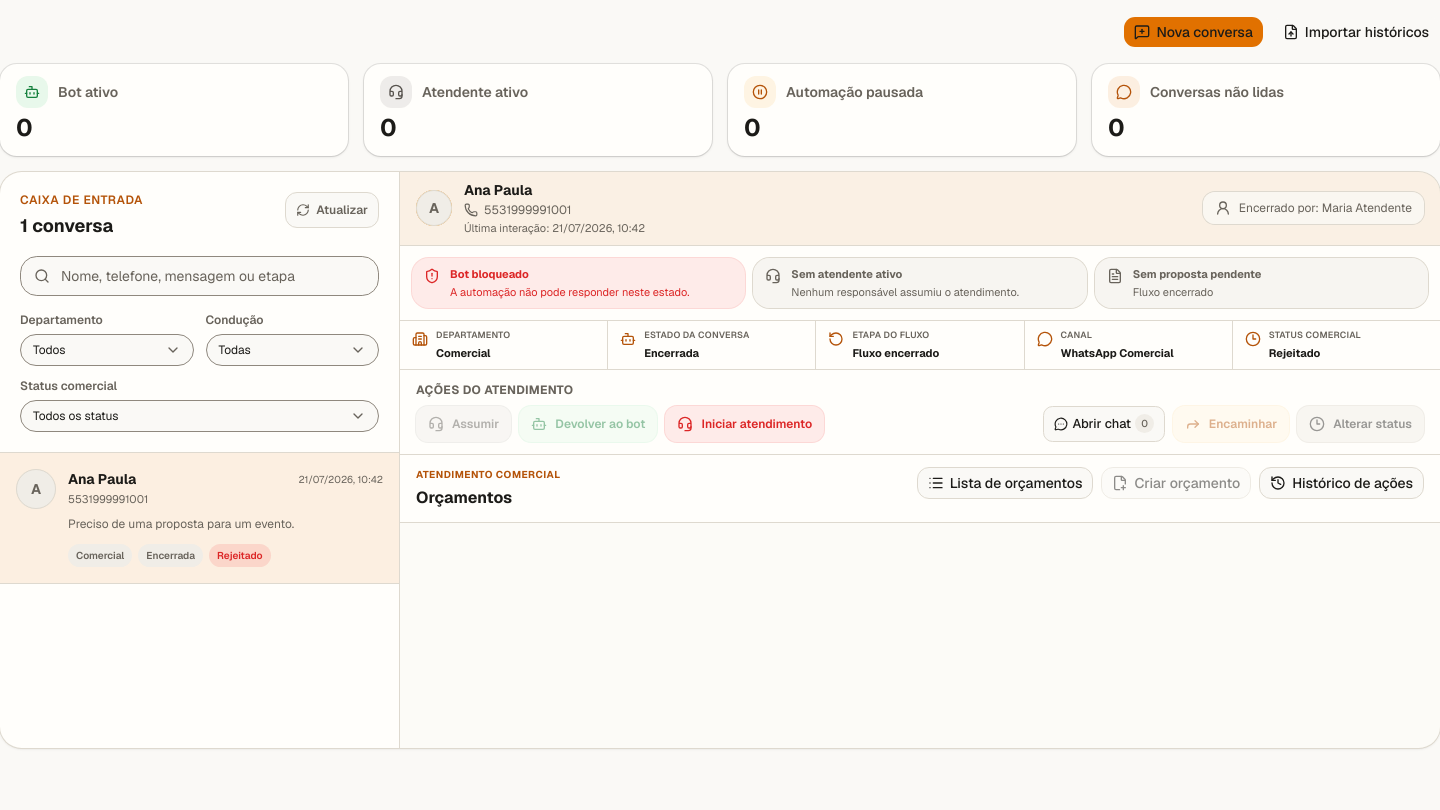
it: ConversationWorkspace › exibe data, responsável e motivo no histórico de encerramentos
expect the text "Encerrado por: Maria Atendente" is shown: met, box [1239,200,1412,216]
Step 1. Click the button "Histórico de ações" → click(1342, 482), box [1259,466,1424,498]
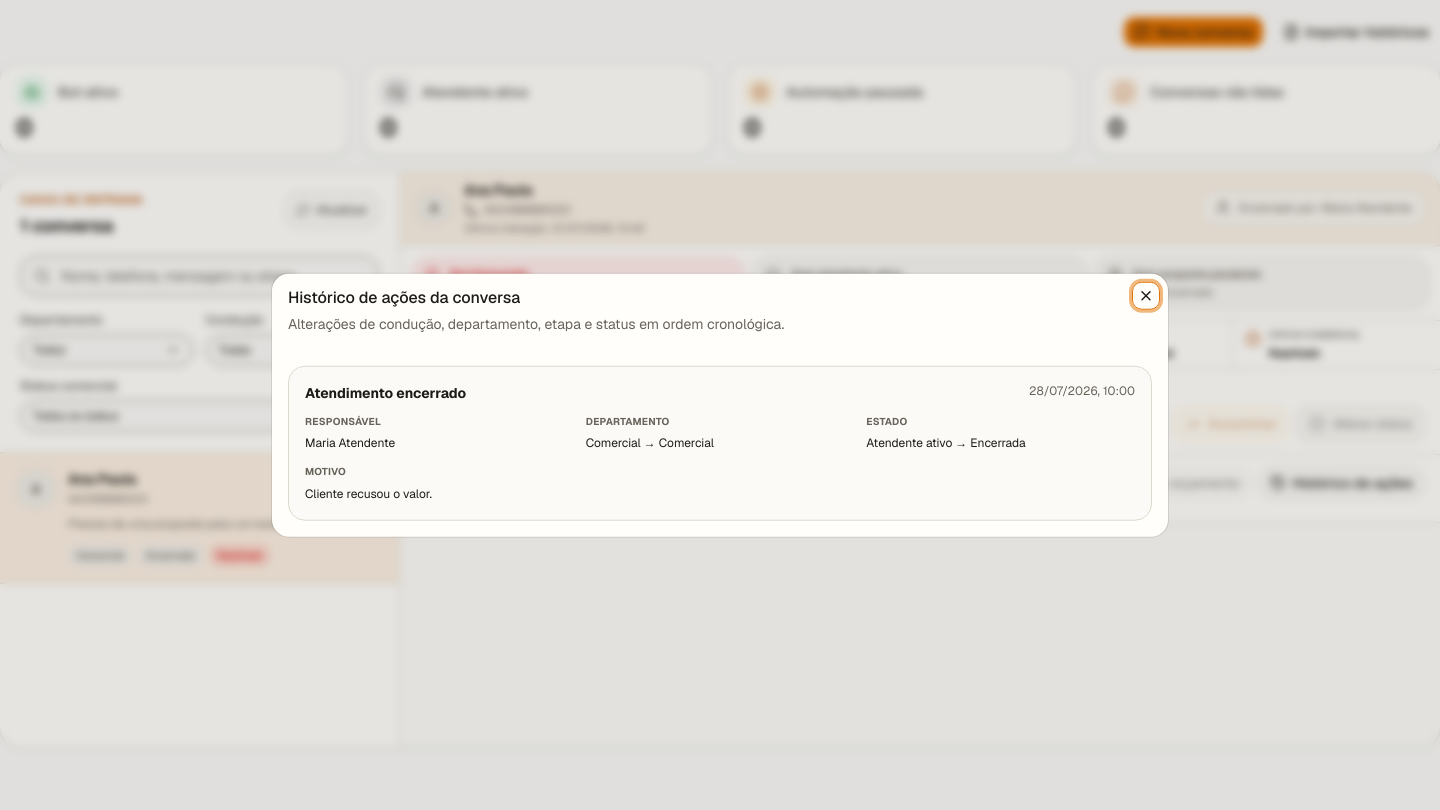
expect the heading "Histórico de ações da conversa" is shown: met, box [288,287,520,308]
expect the text "Atendimento encerrado" is shown: met, box [305,383,466,403]
expect the text "Maria Atendente" is shown: met, box [305,435,395,451]
